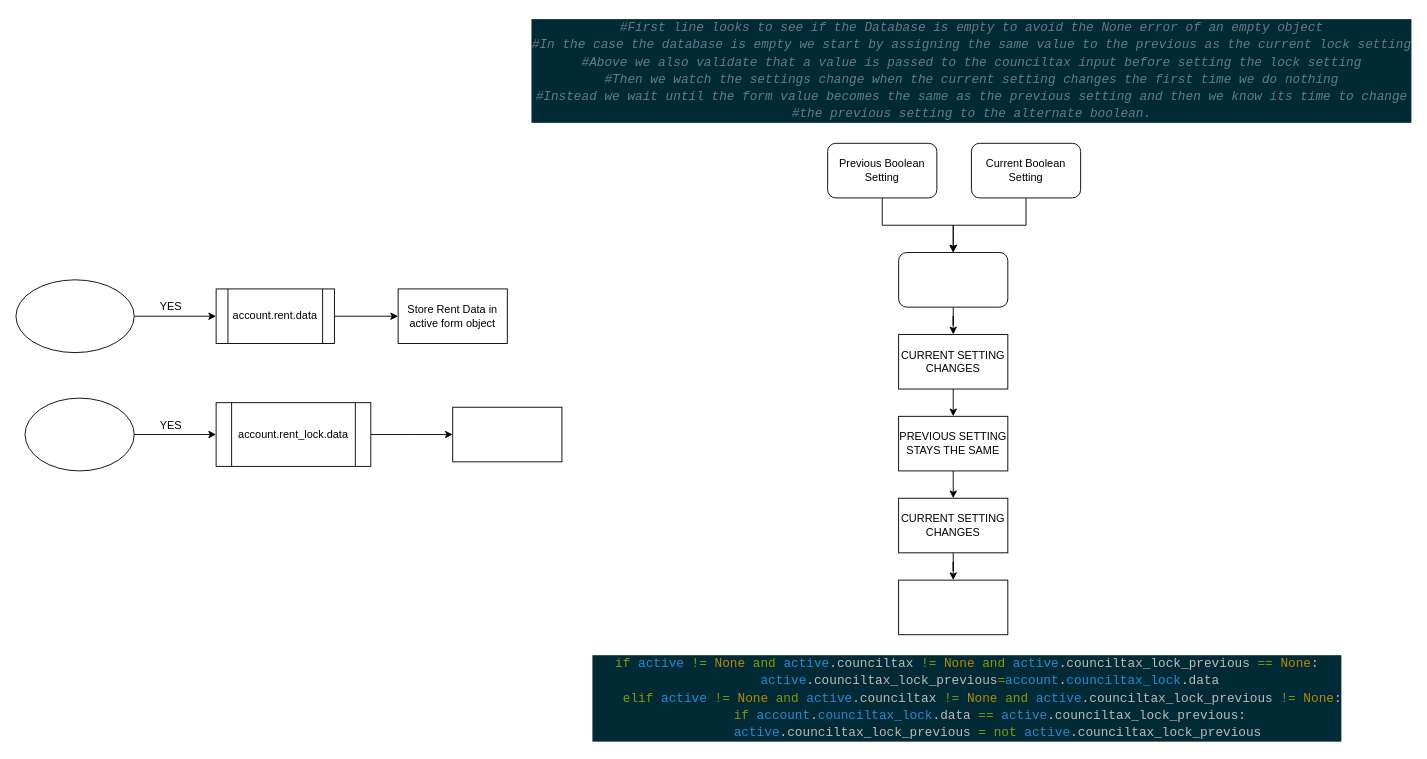
Some shapes in this 1427 by 759 pixel diagram are drawn without their labels. Each missing label, with the centre of its shape:
"PREVIOUS SETTING TOGGLES TO OPPOSITE SETTING" belongs at (x=953, y=607).
"Rent Info entered into Form" belongs at (x=74, y=316).
"Rent Lock Checked" belongs at (x=79, y=434).
"START BY SETTING AS EQUAL" belongs at (x=953, y=279).
